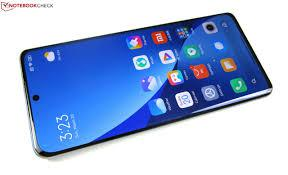Smartphone: (10, 27, 282, 155)
